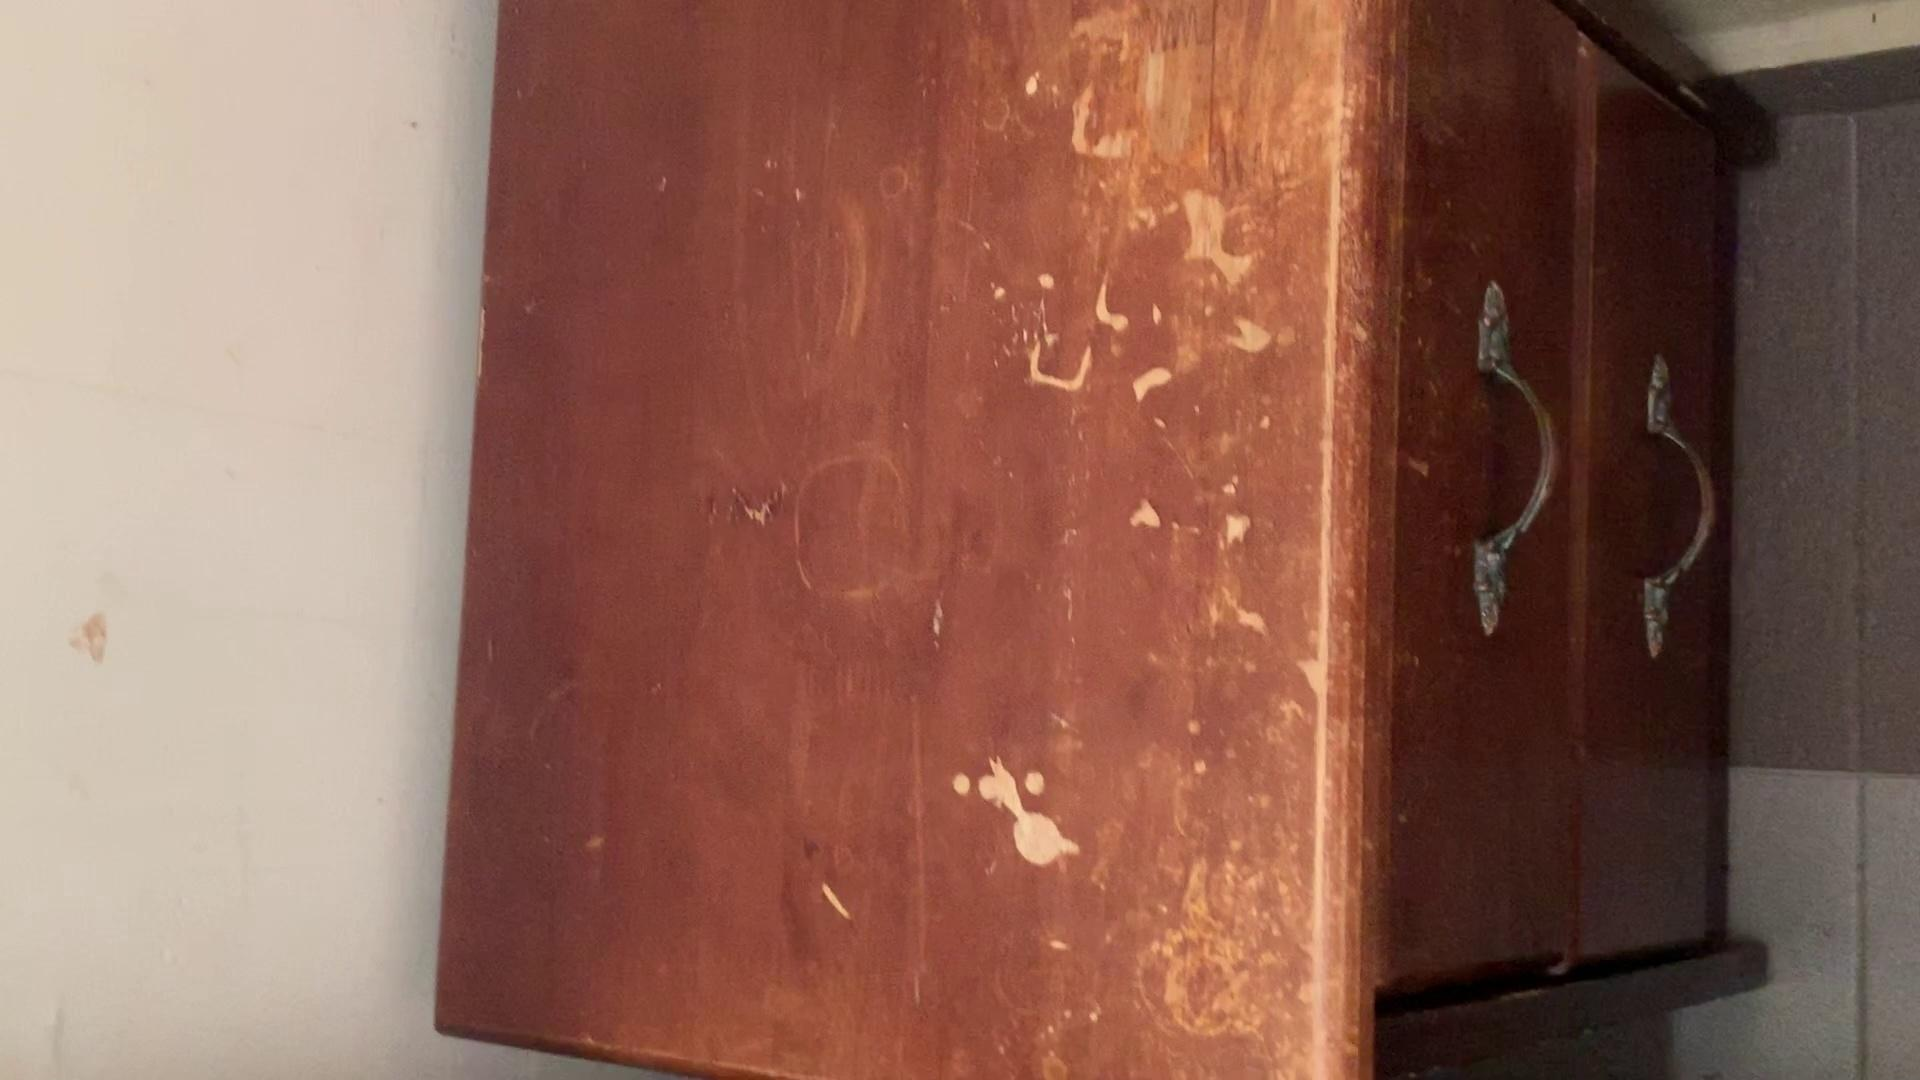cabinet_door: (1379, 1, 1571, 986), (1580, 78, 1726, 960)
handle: (1470, 345, 1569, 605), (1642, 377, 1727, 597)
